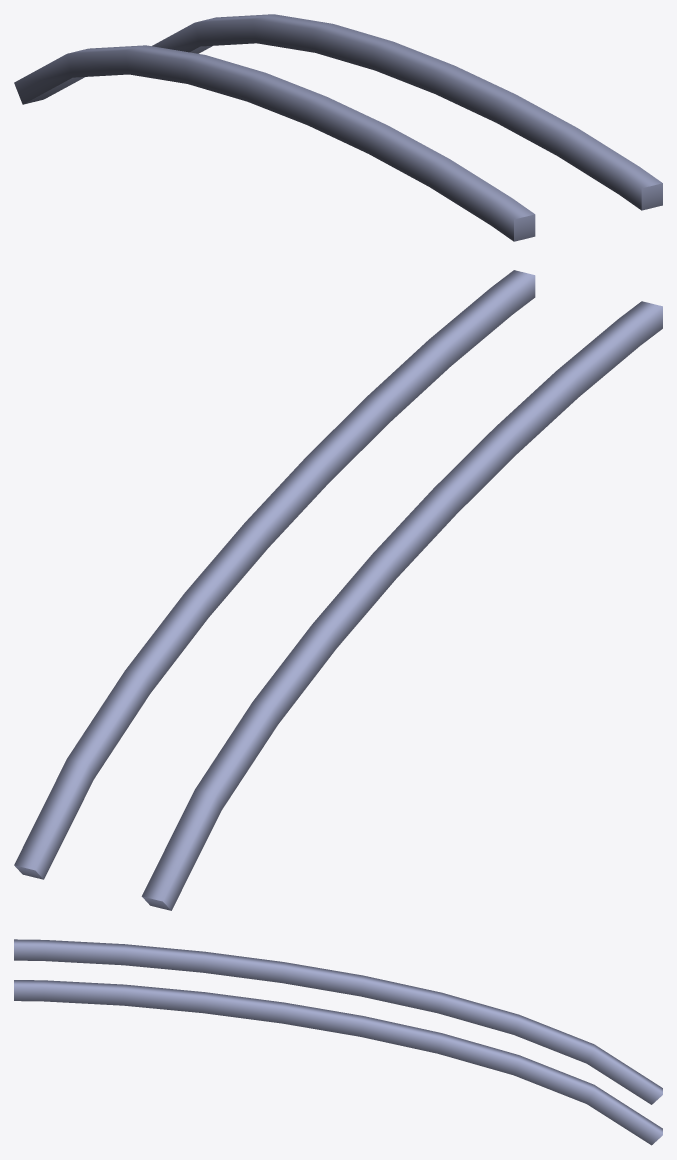
Rendered from railroad-rail-straight-hill-end.glb.
3 views of the same model, one above another, from view 1: azimuth 30°, elevation 25°; view 2: azimuth 150°, elevation 25°; view 3: azimuth 270°, elevation 25° (orthographic). The views are drawn at different scales.
Parts seen in each view (by area): view 1: railroad-rail-straight-hill-end; view 2: railroad-rail-straight-hill-end; view 3: railroad-rail-straight-hill-end.
Boxes of the visible parts, <box> form: railroad-rail-straight-hill-end: <box>14,14,662,241</box>; railroad-rail-straight-hill-end: <box>14,270,662,910</box>; railroad-rail-straight-hill-end: <box>14,939,662,1145</box>.
Bounding box in the file's own units: 0.7 × 1.1 × 4.07.
